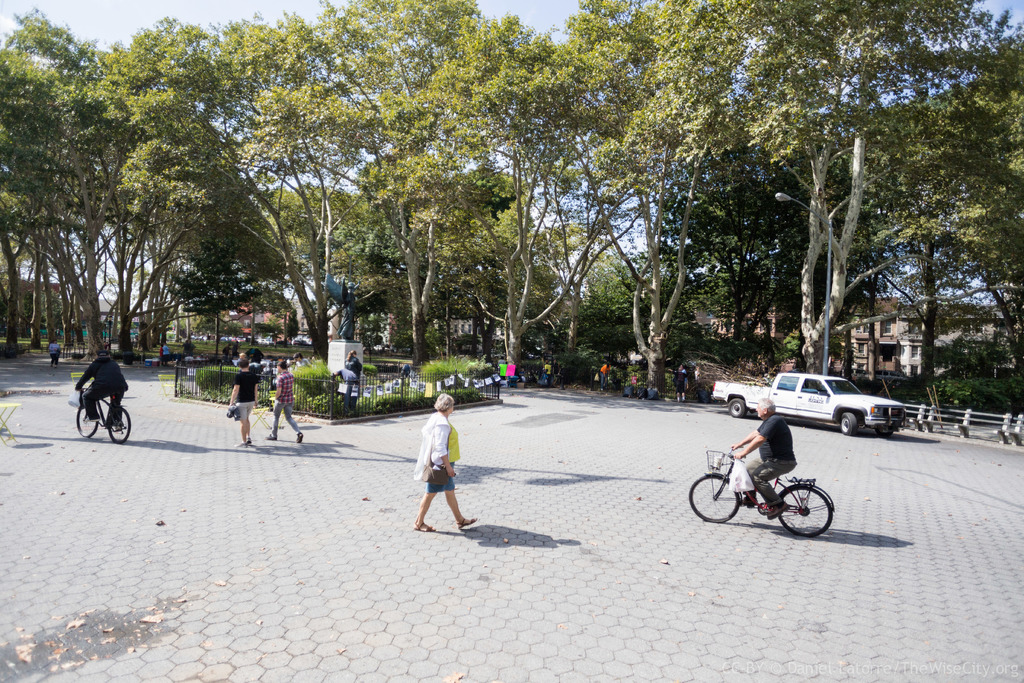Bike: (689, 450, 834, 540), (73, 386, 135, 445)
